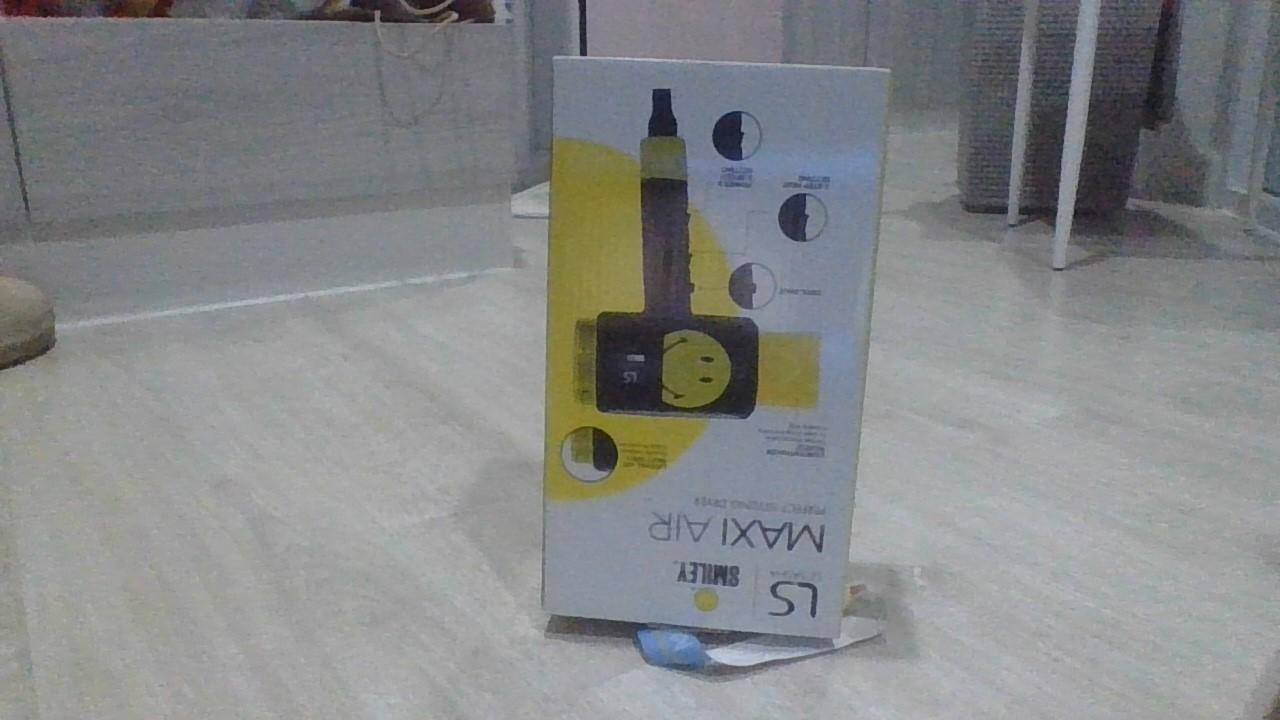IRON: (536, 50, 896, 661)
